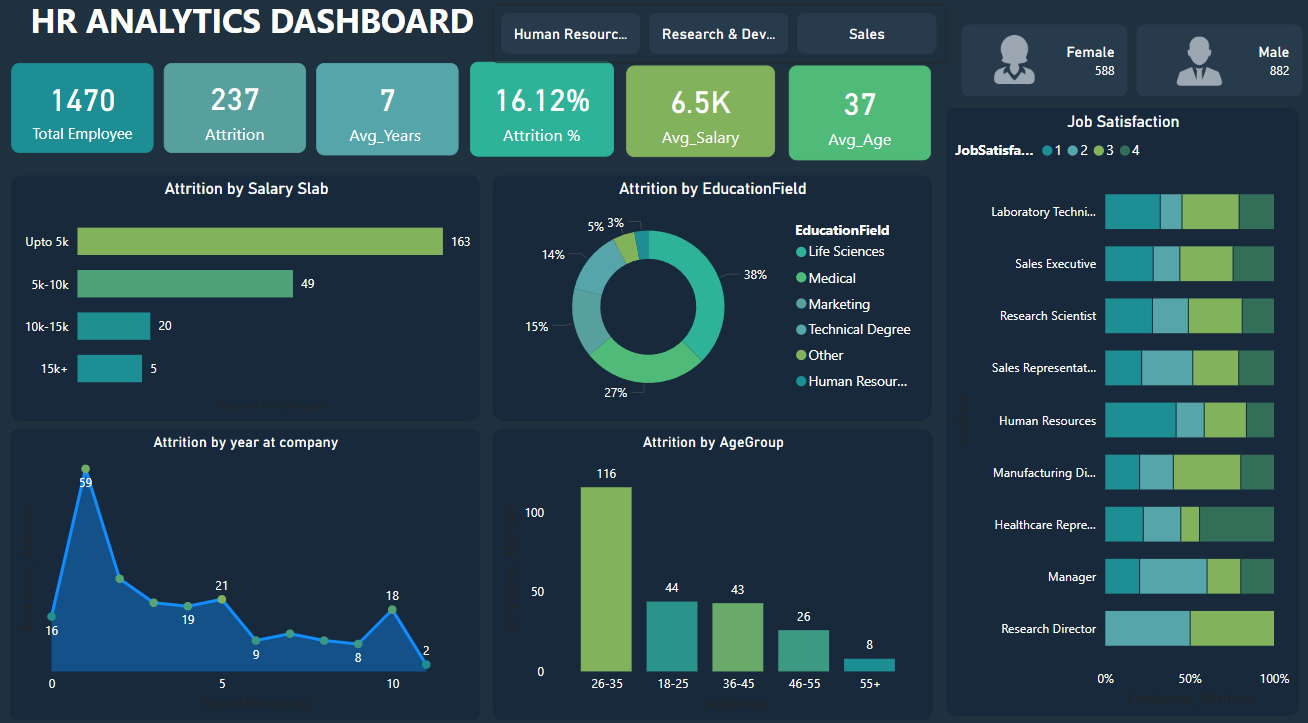

The dashboard page shown, as its layout file describes it:
{"tool":"powerbi","page":{"name":"Page 1","canvas":[1280,720],"ordinal":0},"visuals":[{"type":"image","box":[1142.1,38.2,62.4,57.5],"z":0},{"type":"image","box":[963.6,35.7,57.5,59.9],"z":1000},{"type":"card","fields":{"Values":["HR_Analytics.Attrition %"]},"box":[459.8,67.3,140.6,92.9],"z":2000},{"type":"card","fields":{"Values":["HR_Analytics.Employee_Attrition"]},"box":[160.2,68.5,139.4,88],"z":3000},{"type":"card","fields":{"Values":["HR_Analytics.employee_count"]},"box":[11,68.5,139.4,88],"z":4000},{"type":"card","title":"Avg years at company","fields":{"Values":["Avg(HR_Analytics.YearsAtCompany)"]},"box":[309.4,68.5,139.4,90.5],"z":5000},{"type":"card","fields":{"Values":["HR_Analytics.Avg_Salary"]},"box":[612.6,70.9,145.5,89.3],"z":6000},{"type":"card","fields":{"Values":["HR_Analytics.Avg_Age"]},"box":[771.6,70.9,139.4,92.9],"z":7000},{"type":"donutChart","title":"Attrition by EducationField","fields":{"Category":["HR_Analytics.EducationField"],"Y":["HR_Analytics.Employee_Attrition"]},"box":[481.8,178.5,429.2,239.7],"z":8000},{"type":"clusteredColumnChart","title":"Attrition by AgeGroup","fields":{"Category":["HR_Analytics.AgeGroup"],"Y":["HR_Analytics.Employee_Attrition"]},"box":[481.8,426.8,430.4,284.9],"z":9000},{"type":"hundredPercentStackedBarChart","title":" Job Satisfaction","fields":{"Y":["HR_Analytics.Employee_Attrition"],"Series":["HR_Analytics.JobSatisfaction"],"Category":["HR_Analytics.JobRole"]},"box":[925.7,112.5,344.8,594.3],"z":10000},{"type":"advancedSlicerVisual","fields":{"Values":["HR_Analytics.Gender"]},"box":[935.5,25.7,344.8,81.9],"z":11000},{"type":"advancedSlicerVisual","fields":{"Values":["HR_Analytics.Department"]},"box":[481.8,11,443.9,57.5],"z":12000},{"type":"textbox","box":[11,0,470.8,59.9],"z":13000},{"type":"areaChart","title":"Attrition by year at company","fields":{"Category":["HR_Analytics.YearsAtCompany"],"Y":["HR_Analytics.Employee_Attrition"]},"box":[9.8,426.8,459.8,284.9],"z":14000},{"type":"clusteredBarChart","title":" Attrition by  Salary Slab","fields":{"Category":["HR_Analytics.SalarySlab"],"Y":["CountNonNull(HR_Analytics.AttritionCount)"]},"box":[11,178.5,458.6,239.7],"z":14001}]}

Visuals, with their boxes in screenshot pixels (x1, y1, x2, y2), scaled from the page's 1280x720 canvas onto the 1308x723 screenshot:
image: bbox=(1167, 38, 1231, 96)
image: bbox=(985, 36, 1043, 96)
card - HR_Analytics.Attrition %: bbox=(470, 68, 614, 161)
card - HR_Analytics.Employee_Attrition: bbox=(164, 69, 306, 157)
card - HR_Analytics.employee_count: bbox=(11, 69, 154, 157)
"Avg years at company" card: bbox=(316, 69, 459, 160)
card - HR_Analytics.Avg_Salary: bbox=(626, 71, 775, 161)
card - HR_Analytics.Avg_Age: bbox=(788, 71, 931, 164)
"Attrition by EducationField" donutChart: bbox=(492, 179, 931, 420)
"Attrition by AgeGroup" clusteredColumnChart: bbox=(492, 429, 932, 715)
" Job Satisfaction" hundredPercentStackedBarChart: bbox=(946, 113, 1298, 710)
advancedSlicerVisual - HR_Analytics.Gender: bbox=(956, 26, 1307, 108)
advancedSlicerVisual - HR_Analytics.Department: bbox=(492, 11, 946, 69)
textbox: bbox=(11, 0, 492, 60)
"Attrition by year at company" areaChart: bbox=(10, 429, 480, 715)
" Attrition by  Salary Slab" clusteredBarChart: bbox=(11, 179, 480, 420)
